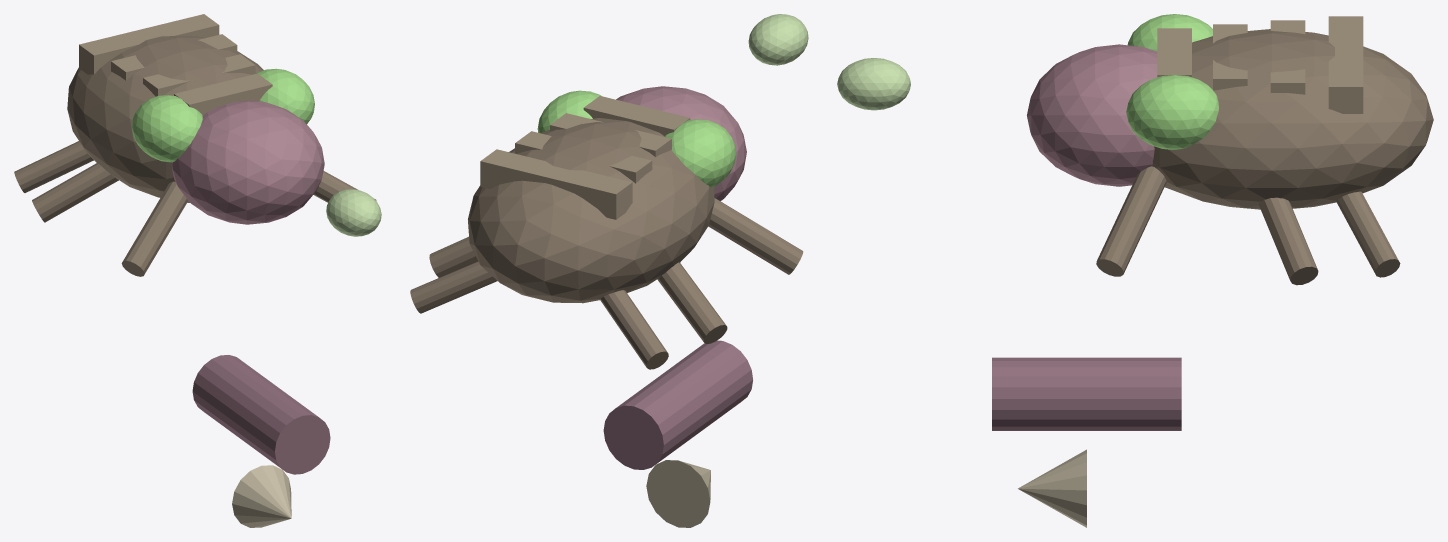
The model's file is zglengo_siege_spitter.glb.
3 views of the same model, side by side, from view 1: azimuth 30°, elevation 25°; view 2: azimuth 150°, elevation 25°; view 3: azimuth 270°, elevation 25° (orthographic). The views are drawn at different scales.
Parts seen in each view (by area): view 1: thorax, heavy_abdomen, siege_launcher, artillery_sac_-1, siege_muzzle, siege_plate_0, front_leg_-1, mid_leg_-1, siege_projectile, siege_plate_3, artillery_sac_1, rear_leg_-1 (+3 smaller); view 2: heavy_abdomen, siege_launcher, siege_plate_0, siege_muzzle, thorax, artillery_sac_-1, front_leg_-1, siege_projectile, mid_leg_-1, rear_leg_-1, rear_leg_1, siege_plate_3 (+4 smaller); view 3: heavy_abdomen, siege_launcher, thorax, artillery_sac_1, front_leg_1, siege_plate_0, siege_projectile, siege_muzzle, mid_leg_1, rear_leg_1, siege_plate_3, artillery_sac_-1 (+2 smaller).
Boxes of the visible parts, bbox=[...] form: thorax: bbox=[171, 100, 324, 224]; heavy_abdomen: bbox=[67, 35, 263, 202]; siege_launcher: bbox=[192, 355, 330, 474]; artillery_sac_-1: bbox=[131, 95, 202, 162]; siege_muzzle: bbox=[232, 465, 291, 527]; siege_plate_0: bbox=[79, 14, 219, 74]; front_leg_-1: bbox=[121, 181, 188, 276]; mid_leg_-1: bbox=[32, 163, 118, 222]; siege_projectile: bbox=[326, 189, 381, 236]; siege_plate_3: bbox=[174, 73, 272, 115]; artillery_sac_1: bbox=[256, 68, 314, 123]; rear_leg_-1: bbox=[14, 141, 93, 192]; heavy_abdomen: bbox=[468, 118, 714, 303]; siege_launcher: bbox=[603, 340, 752, 469]; siege_plate_0: bbox=[480, 149, 632, 219]; siege_muzzle: bbox=[646, 460, 710, 527]; thorax: bbox=[616, 86, 746, 200]; artillery_sac_-1: bbox=[664, 119, 736, 187]; front_leg_-1: bbox=[708, 198, 803, 274]; siege_projectile: bbox=[748, 14, 808, 65]; mid_leg_-1: bbox=[657, 262, 727, 343]; rear_leg_-1: bbox=[600, 290, 668, 369]; rear_leg_1: bbox=[410, 261, 497, 313]; siege_plate_3: bbox=[583, 96, 690, 135]; heavy_abdomen: bbox=[1152, 29, 1433, 209]; siege_launcher: bbox=[992, 357, 1181, 430]; thorax: bbox=[1027, 44, 1157, 186]; artillery_sac_1: bbox=[1126, 75, 1218, 149]; front_leg_1: bbox=[1096, 166, 1166, 276]; siege_plate_0: bbox=[1328, 16, 1363, 113]; siege_projectile: bbox=[837, 58, 910, 110]; siege_muzzle: bbox=[1018, 449, 1086, 527]; mid_leg_1: bbox=[1258, 197, 1318, 285]; rear_leg_1: bbox=[1336, 191, 1400, 277]; siege_plate_3: bbox=[1157, 28, 1191, 77]; artillery_sac_-1: bbox=[1127, 14, 1212, 51].
Size of the model in its own units: 1.55 by 2.29 by 2.58.
